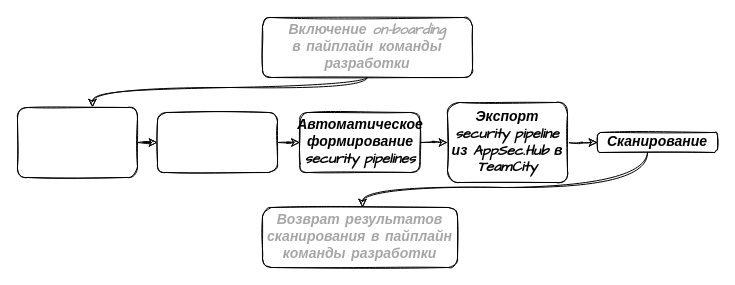
Image size: 735x285. Some labels were removed from this diagram. The centre of each missing label's shape, as x and y in pixels:
"O бнаружение кодовых баз и артефактов" belongs at point (217, 142).
"Сбор и направление информации в AppSec . Hub" belongs at point (77, 142).
